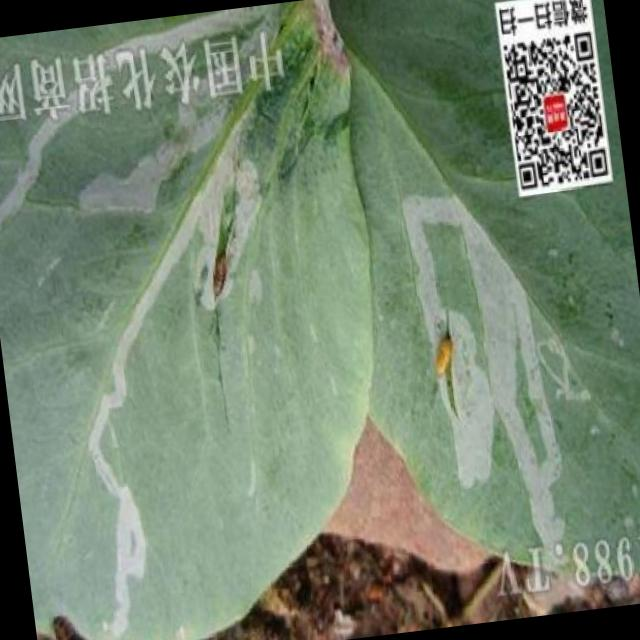whorl-maggot: (423, 323, 466, 390), (198, 244, 241, 309)
